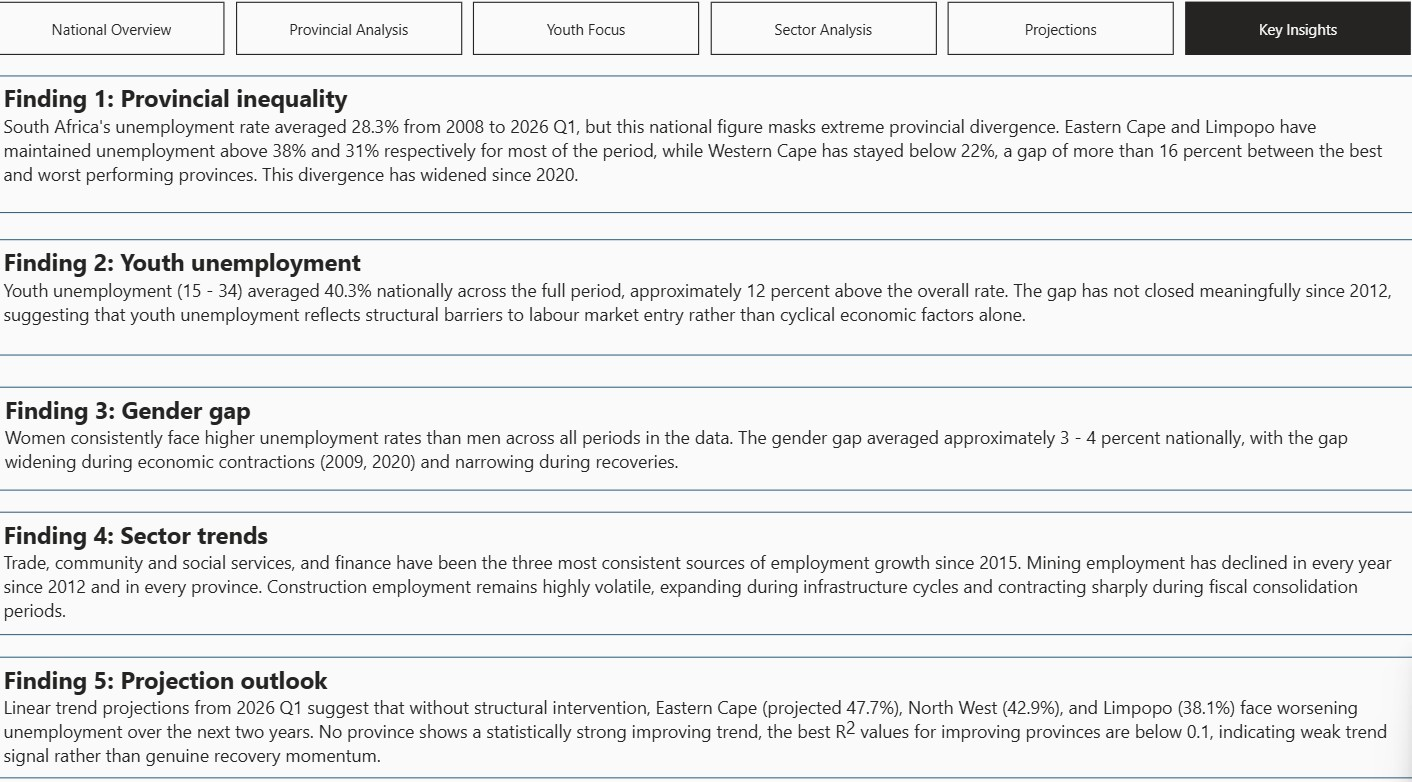

Layout of this report page (visuals, bound fields, positions):
{"tool":"powerbi","page":{"name":"Key Insights","canvas":[1280,720],"ordinal":5},"visuals":[{"type":"textbox","box":[0,79.1,1279.2,124.1],"z":0},{"type":"textbox","box":[0,226.7,1279.2,104.8],"z":1000},{"type":"textbox","box":[1.1,359.6,1279.3,93.6],"z":2000},{"type":"textbox","box":[0,472.7,1279.2,111.2],"z":3000},{"type":"textbox","box":[0,611.8,1279.2,109.1],"z":4000},{"type":"pageNavigator","box":[1.4,12.9,1278.6,48.6],"z":5000}]}

Visuals, with their boxes in screenshot pixels (x1, y1, x2, y2), scaled from the page's 1280x720 canvas onto the 1412x782 screenshot:
textbox: 0/86/1411/221
textbox: 0/246/1411/360
textbox: 1/391/1411/492
textbox: 0/513/1411/634
textbox: 0/664/1411/781
pageNavigator: 2/14/1411/67
